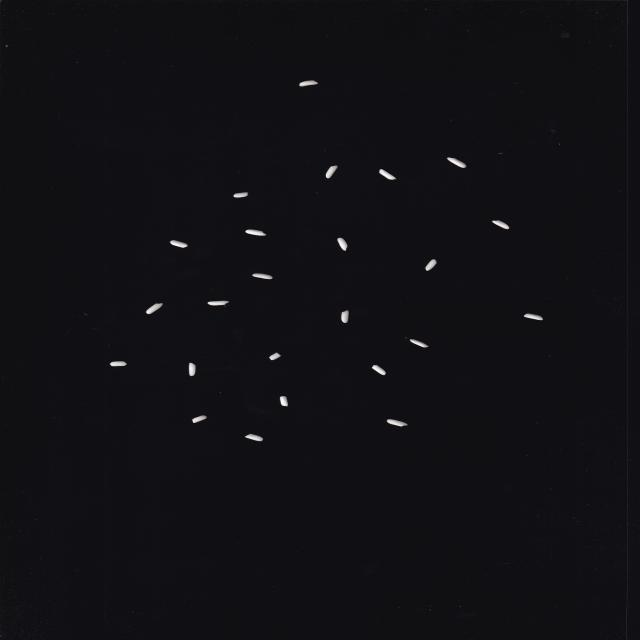Not: (446, 157, 467, 169), (146, 302, 164, 314), (379, 168, 397, 180), (491, 220, 510, 230), (409, 339, 430, 348), (325, 165, 338, 179), (386, 419, 408, 427), (372, 364, 386, 376), (424, 259, 438, 271), (523, 313, 544, 321), (169, 240, 189, 248), (244, 434, 264, 442), (245, 229, 267, 236), (337, 238, 348, 252), (192, 414, 207, 424), (298, 80, 319, 87), (252, 273, 273, 280), (207, 300, 230, 306), (340, 310, 350, 323), (268, 352, 282, 361), (188, 362, 196, 377), (109, 361, 128, 367), (233, 192, 248, 198), (280, 396, 288, 406)
